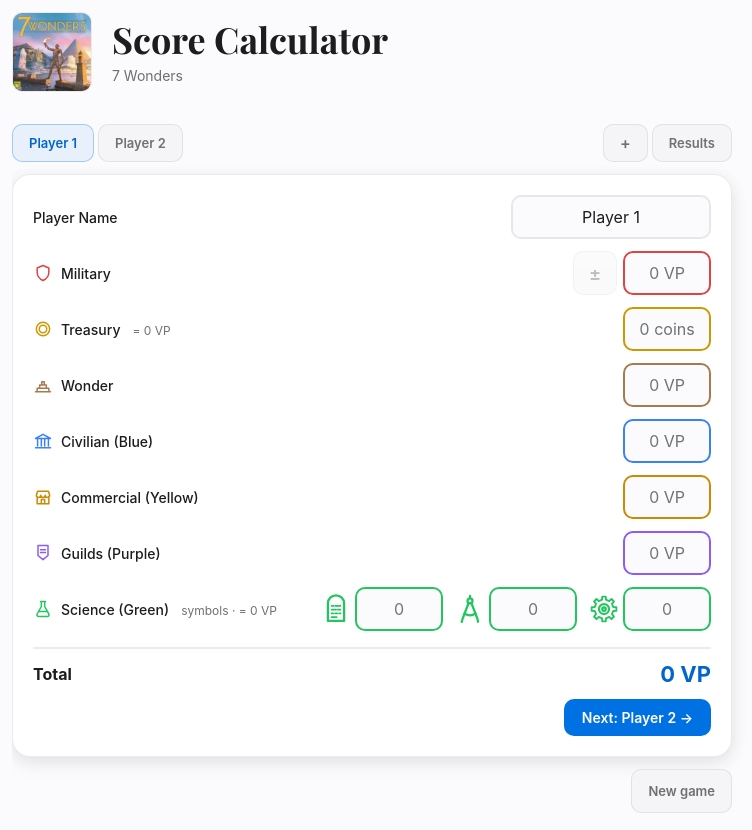
Test: ScoreCalculatorPage › removes a player via the per-tab remove button
Click the button named "Add player".
click(625, 143)  # box [603,124,648,162]
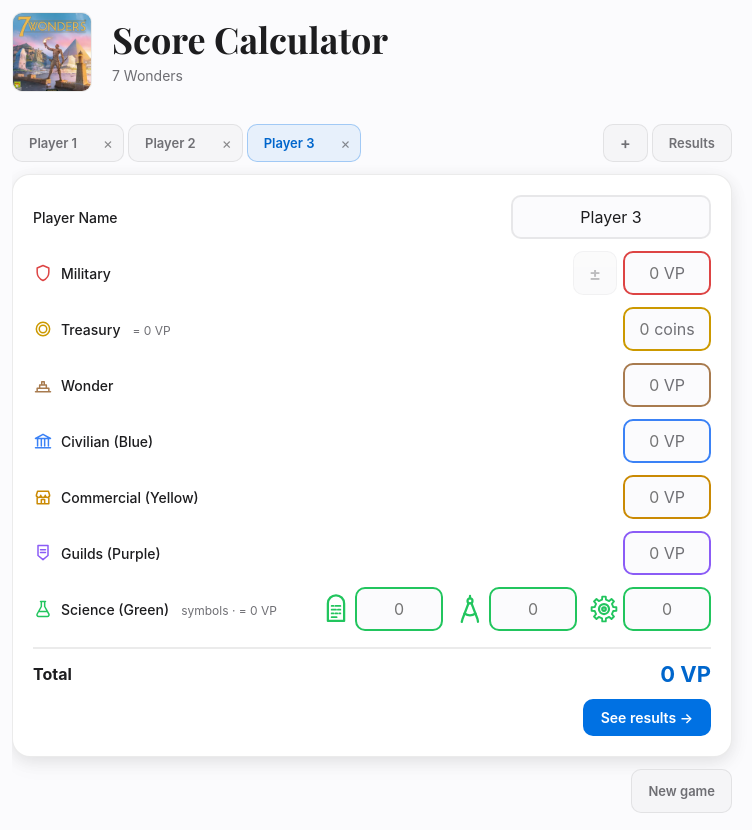
Click the button named "Remove Player 3".
click(345, 143)  # box [330,125,360,161]
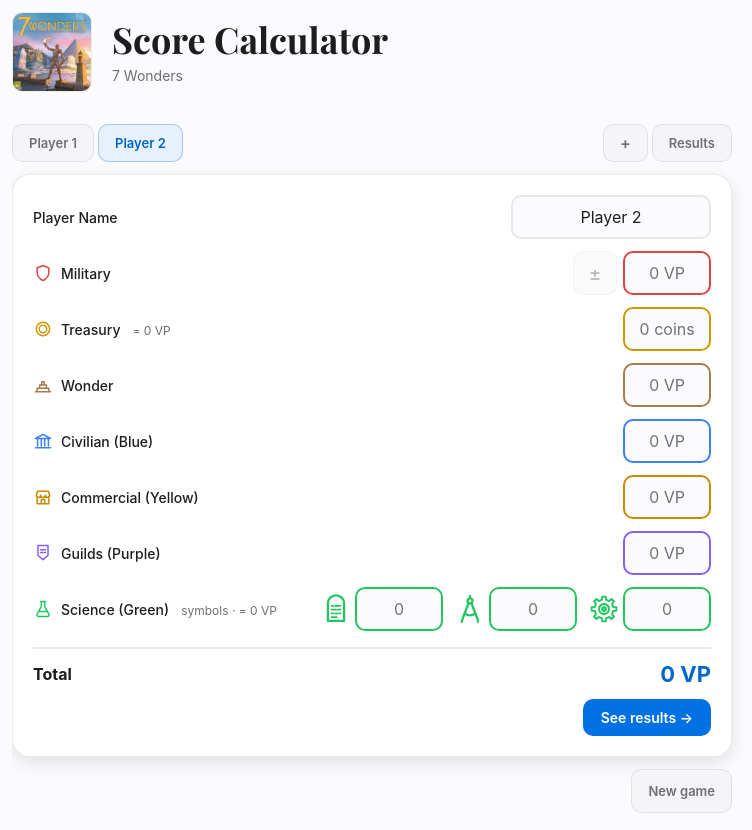
Now the button "Player 3" is gone
